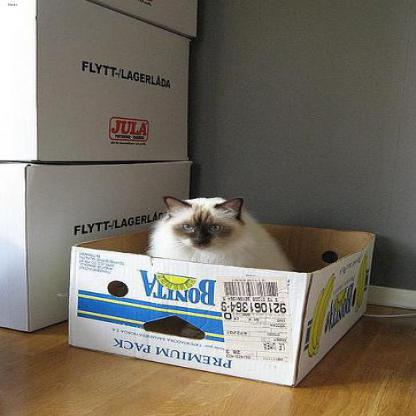cat: (148, 193, 293, 274)
